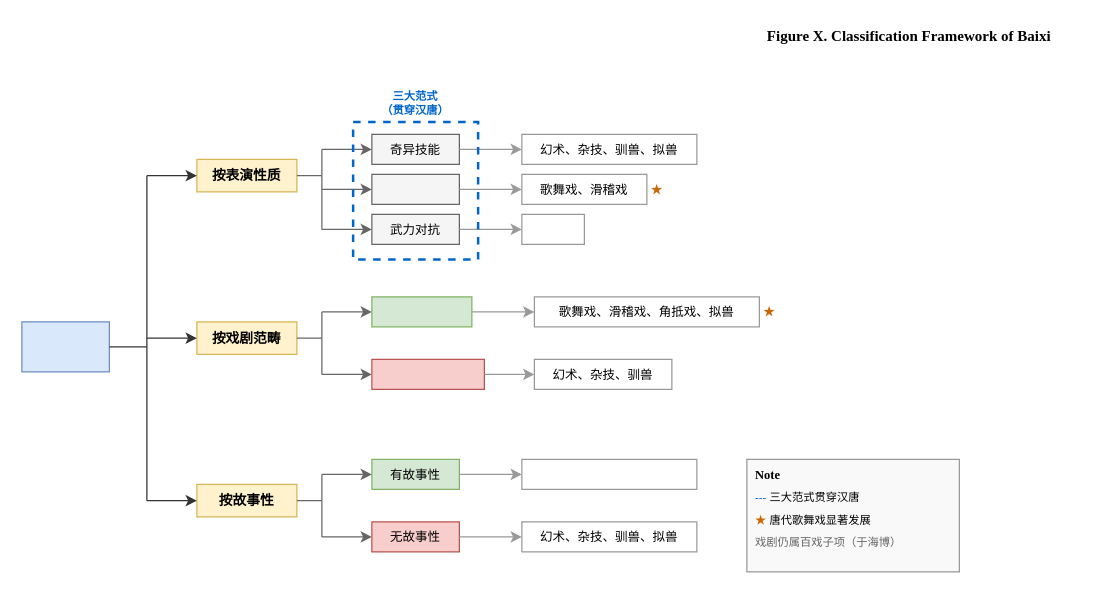
The diagram is 1106 pixels wide and 594 high, and some of its shapes have lost their labels. The box of each missing label's shape, as (x1, y1, x2, y2) in pixels:
不属戏剧范畴: (371, 358, 484, 389)
属戏剧范畴: (371, 296, 472, 327)
滑稽嘲谑: (371, 173, 459, 204)
滑稽戏、歌舞戏、角抵: (521, 458, 697, 489)
百戏: (21, 321, 109, 372)
角抵: (521, 213, 584, 244)
